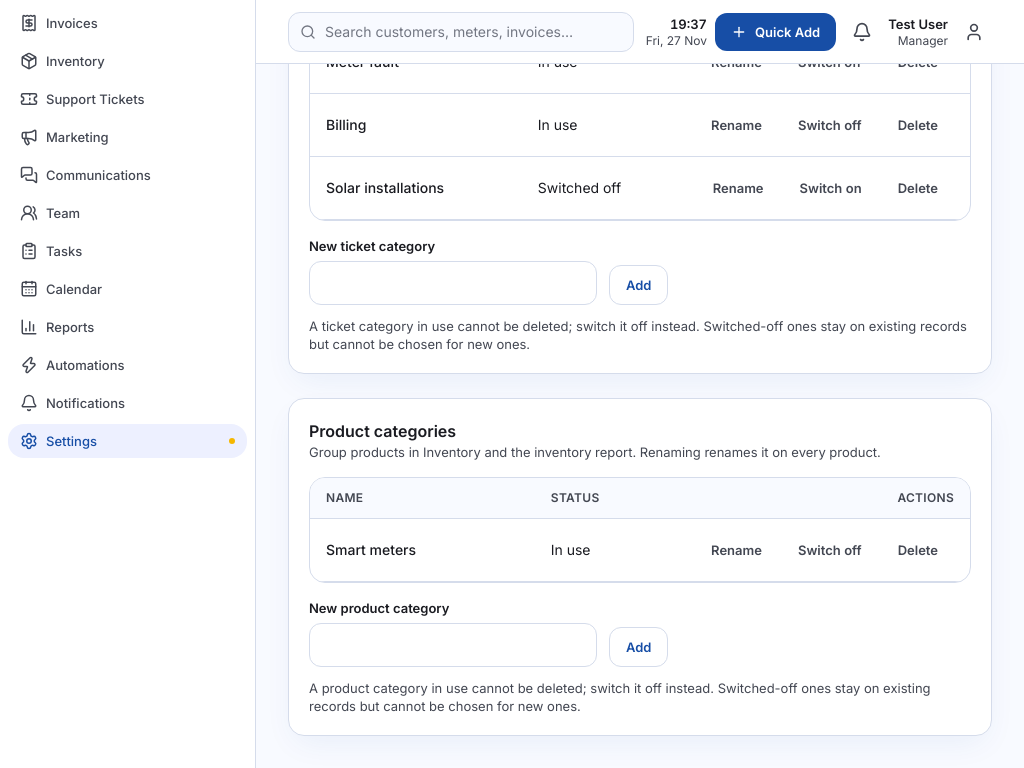
it: categories › refuses a duplicate name before asking the database
(page scrolled)
Step 1. Type "smart METERS" into the field labelled "New product category" → x=453, y=645, box [309,623,597,667]
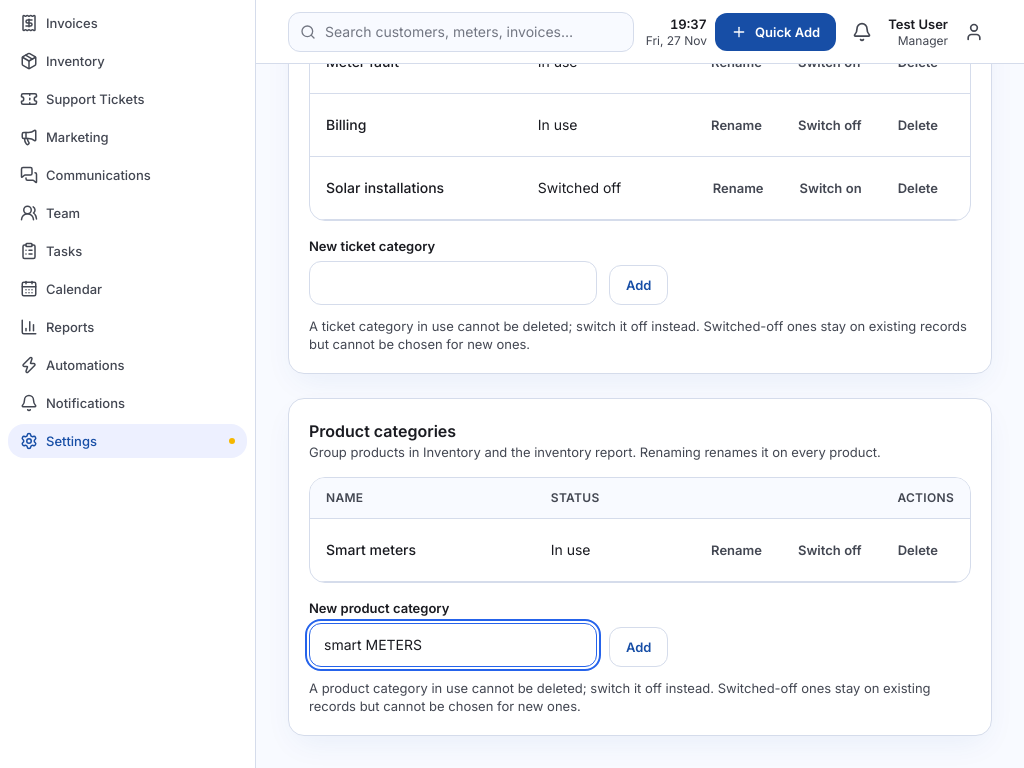
Step 2. Click the button "Add" below "New product category" → x=639, y=647, box [609,627,668,667]
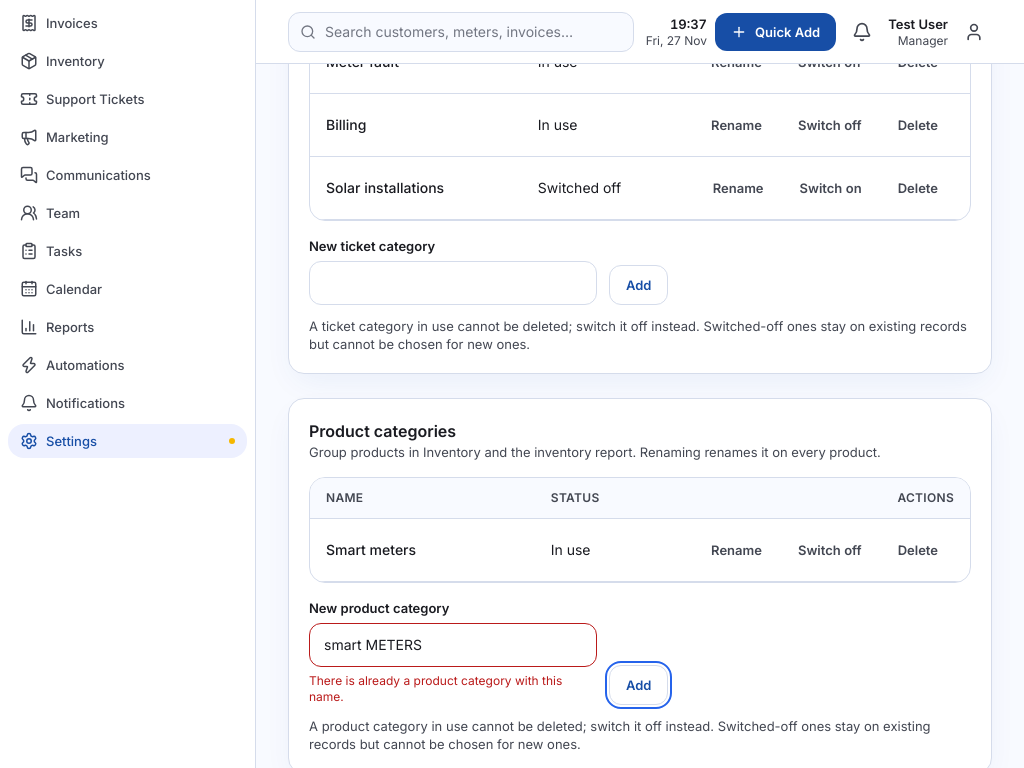
Expected: the text "There is already a product category with this name." is shown, [309,673,597,705]
